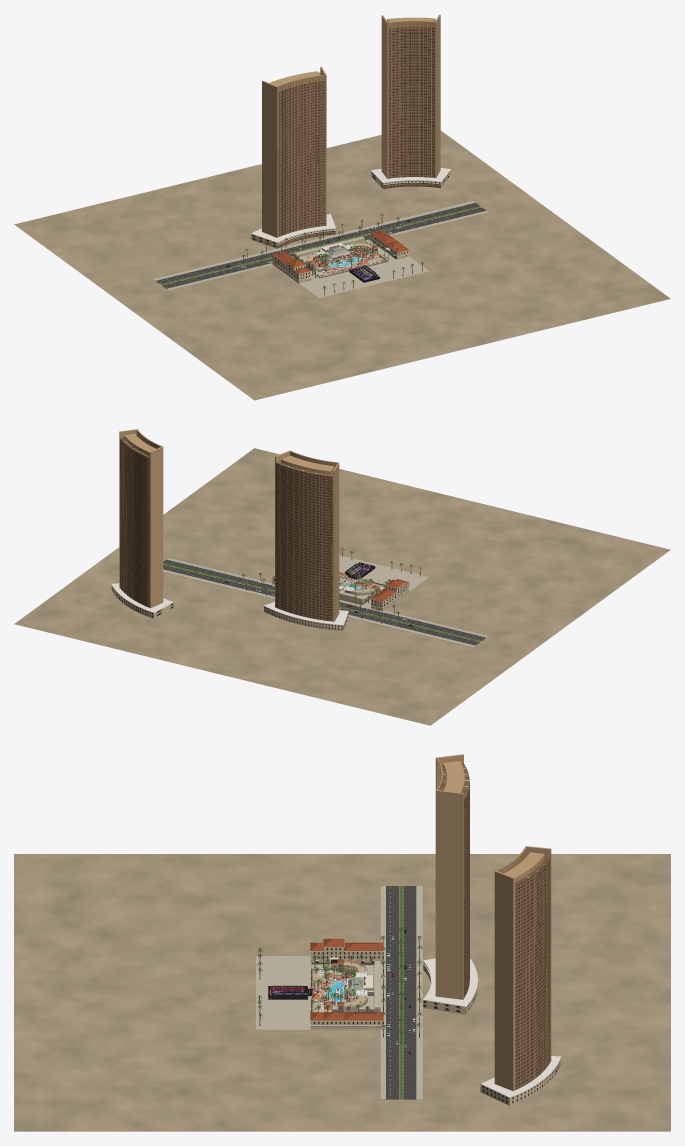
File: encore-beach-club-detailed.glb
3 renders of one model, top to bottom at view 1: azimuth 30°, elevation 25°; view 2: azimuth 150°, elevation 25°; view 3: azimuth 270°, elevation 25°, orthographic. The views are drawn at different scales.
Visible parts, largest first — view 1: Ground_Context, Static_Context_01, Static_Site_22, Static_Roofs_13; view 2: Ground_Context, Static_Context_01, Static_Site_22; view 3: Ground_Context, Static_Context_01, Static_Site_22, Static_Roofs_13.
Boxes of the visible parts, <box> form: Ground_Context: <box>14,130,670,400</box>; Static_Context_01: <box>153,14,488,298</box>; Static_Site_22: <box>294,236,388,282</box>; Static_Roofs_13: <box>305,242,378,267</box>; Ground_Context: <box>14,448,670,725</box>; Static_Context_01: <box>111,429,488,647</box>; Static_Site_22: <box>339,562,384,604</box>; Ground_Context: <box>14,854,670,1131</box>; Static_Context_01: <box>256,754,561,1105</box>; Static_Site_22: <box>268,961,380,1012</box>; Static_Roofs_13: <box>314,959,367,1008</box>.
Size of the model in its own units: 520 by 196 by 520.
Materials: 158 (101 with a texture image).
